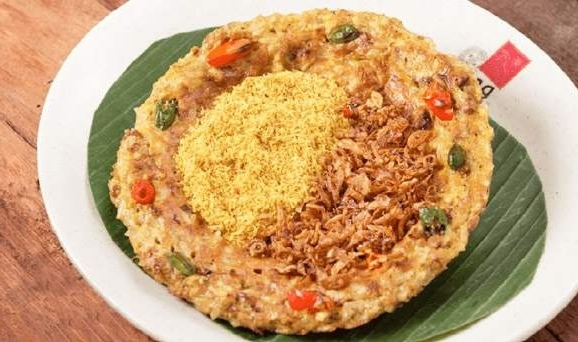kerak_telor: (108, 9, 494, 336)
